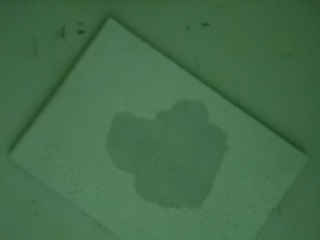Water_detected: (113, 107, 210, 195)
